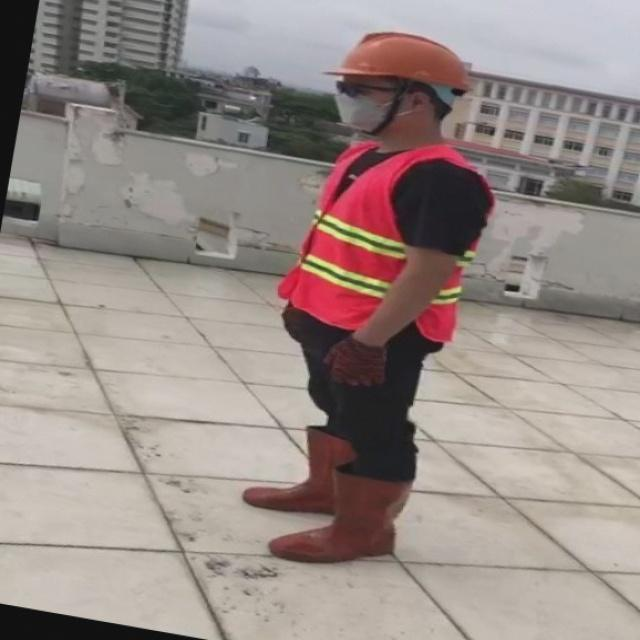helmet: (320, 33, 476, 86)
safety_vest: (262, 122, 498, 348)
